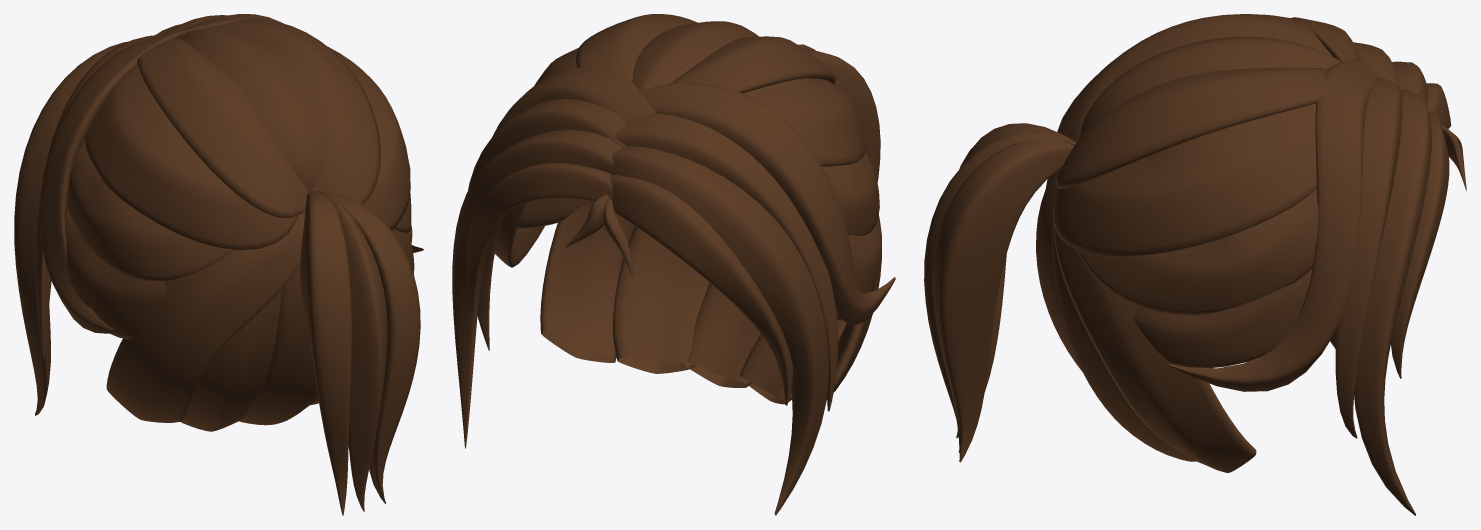
Rendered from latesthair.fbx.
The picture shows the model from 3 angles, left to right: view 1: azimuth 30°, elevation 25°; view 2: azimuth 150°, elevation 25°; view 3: azimuth 270°, elevation 25°; orthographic projection. The views are drawn at different scales.
Parts seen in each view (by area): view 1: Hair; view 2: Hair; view 3: Hair.
Part boxes in pixels (left/top/right/bottom): Hair: left=14, top=14, right=423, bottom=515; Hair: left=452, top=14, right=895, bottom=515; Hair: left=924, top=14, right=1466, bottom=515.
Bounding box in the file's own units: 18.83 × 20.55 × 24.15.
